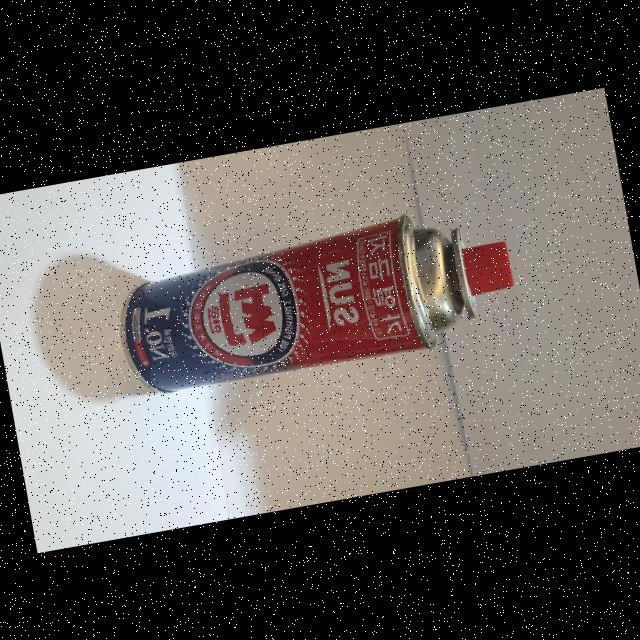chemical_spray_can: (101, 196, 531, 416)
